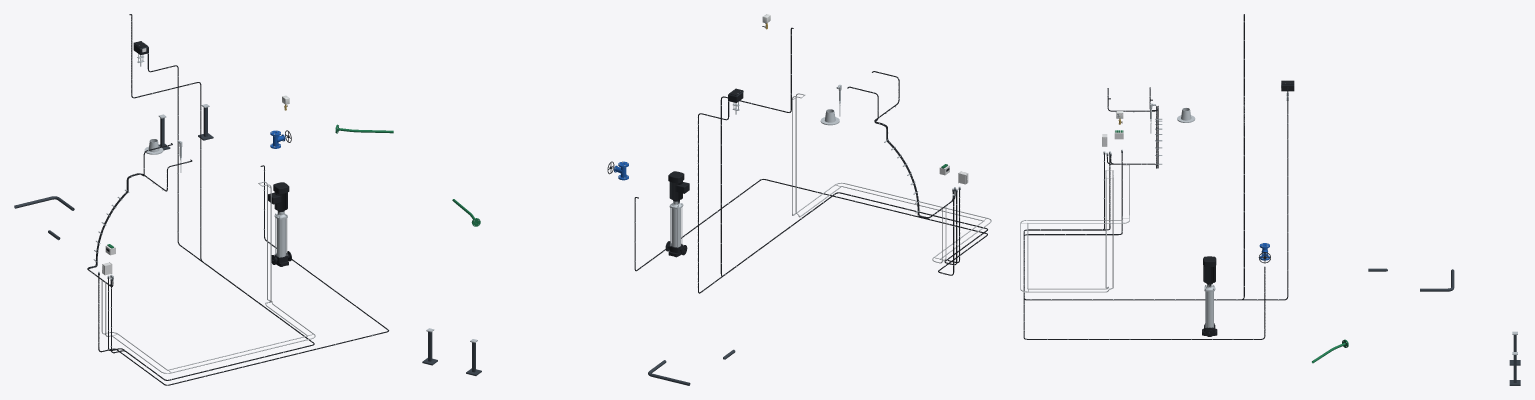
Rendered from s4000-6-CQF55AHm.glb.
3 views of the same model, side by side, from view 1: azimuth 30°, elevation 25°; view 2: azimuth 150°, elevation 25°; view 3: azimuth 270°, elevation 25° (orthographic). The views are drawn at different scales.
Visible parts, largest first — view 1: cables / zinc, gpz_drive_cable / black, wiring_pump_2 / black, mod_direct_drive_cable / black, pump_1 CAD solid 15, trap_support / dark, pump_1 CAD solid 2, wiring_low_level_1 / black; view 2: cables / zinc, gpz_drive_cable / black, wiring_pump_2 / black, mod_direct_drive_cable / black, pump_1 CAD solid 15; view 3: cables / zinc, gpz_drive_cable / black, mod_direct_drive_cable / black, wiring_pump_2 / black.
Boxes of the visible parts, <box> form: cables / zinc: <box>101,181,315,373</box>; gpz_drive_cable / black: <box>111,14,314,380</box>; wiring_pump_2 / black: <box>98,165,388,385</box>; mod_direct_drive_cable / black: <box>108,46,314,380</box>; pump_1 CAD solid 15: <box>268,182,289,211</box>; trap_support / dark: <box>158,107,213,150</box>; pump_1 CAD solid 2: <box>276,218,285,257</box>; wiring_low_level_1 / black: <box>88,159,192,286</box>; cables / zinc: <box>792,93,991,263</box>; gpz_drive_cable / black: <box>720,27,987,276</box>; wiring_pump_2 / black: <box>634,179,987,275</box>; mod_direct_drive_cable / black: <box>698,94,987,293</box>; pump_1 CAD solid 15: <box>668,171,689,200</box>; cables / zinc: <box>1020,165,1129,292</box>; gpz_drive_cable / black: <box>1023,14,1244,300</box>; mod_direct_drive_cable / black: <box>1023,88,1288,300</box>; wiring_pump_2 / black: <box>1023,153,1265,339</box>.
Bounding box in the file's own units: 6.01 × 4.02 × 6.8.
